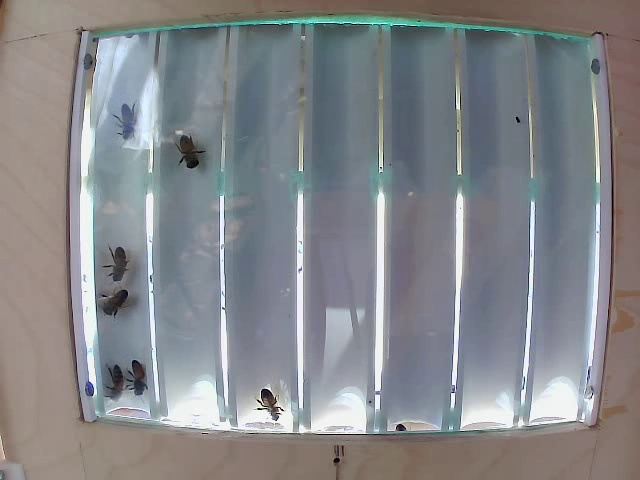bee: (178, 133, 219, 175), (259, 384, 298, 427), (114, 103, 147, 142), (95, 282, 128, 311), (100, 241, 130, 272), (134, 353, 151, 402), (102, 361, 127, 394)
